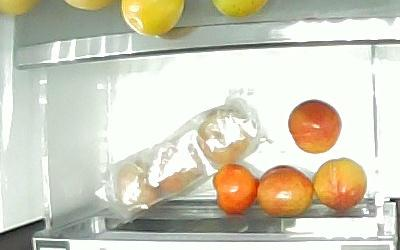prune: (287, 98, 341, 153), (256, 164, 314, 215), (312, 157, 367, 210), (212, 162, 259, 214)
prune_vinyl: (196, 109, 250, 164), (115, 161, 156, 207), (158, 165, 198, 194)
